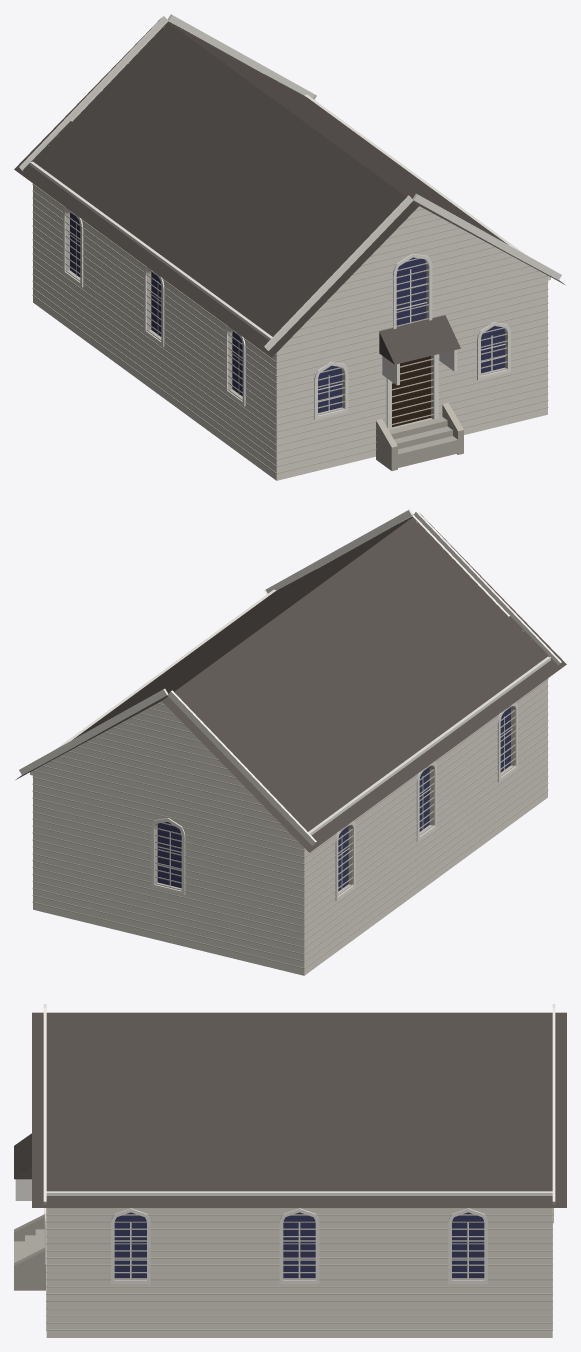
The model's file is ch-church-of-the-nazarene-ph-1961.glb.
3 renders of one model, top to bottom at view 1: azimuth 30°, elevation 25°; view 2: azimuth 150°, elevation 25°; view 3: azimuth 270°, elevation 25°, orthographic. The views are drawn at different scales.
Parts seen in each view (by area): view 1: ch_roof, ch_brick, ch_brick2, ch_trim, ch_stain, ch_conc, ch_roof2, ch_door; view 2: ch_roof, ch_brick, ch_brick2, ch_trim, ch_stain; view 3: ch_roof, ch_brick, ch_brick2, ch_trim, ch_stain, ch_conc, ch_roof2.
Boxes of the visible parts, <box> form: ch_roof: <box>14,18,564,357</box>; ch_brick: <box>33,184,547,480</box>; ch_brick2: <box>32,26,548,473</box>; ch_trim: <box>19,14,561,430</box>; ch_stain: <box>70,211,504,412</box>; ch_conc: <box>376,402,463,470</box>; ch_roof2: <box>379,315,460,364</box>; ch_door: <box>392,356,430,427</box>; ch_roof: <box>16,513,566,852</box>; ch_brick: <box>33,679,547,975</box>; ch_brick2: <box>32,521,548,968</box>; ch_trim: <box>19,509,561,901</box>; ch_stain: <box>157,706,510,891</box>; ch_roof: <box>32,1012,566,1207</box>; ch_brick: <box>46,1208,552,1337</box>; ch_brick2: <box>46,1208,552,1330</box>; ch_trim: <box>15,1004,555,1284</box>; ch_stain: <box>114,1212,484,1278</box>; ch_conc: <box>14,1214,45,1290</box>; ch_roof2: <box>14,1133,31,1179</box>.
Bounding box in the file's own units: 9.84 × 8.13 × 15.3.
